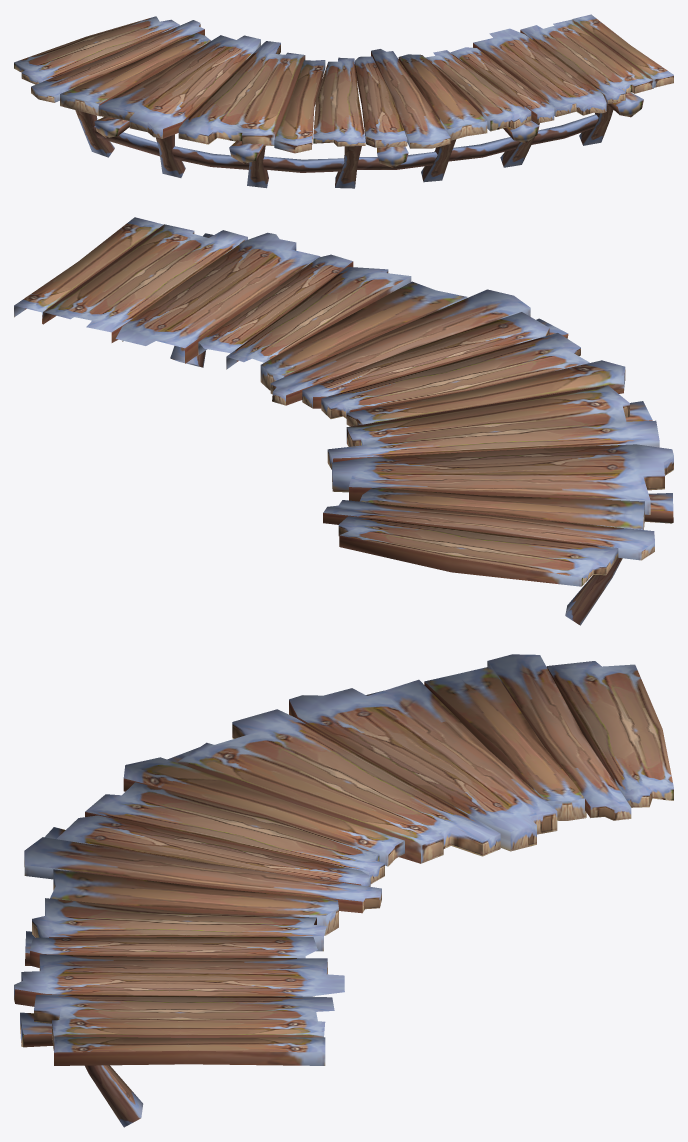
The model's file is Map_10_wooden15.FBX.
The picture shows the model from 3 angles, top to bottom: view 1: azimuth 30°, elevation 25°; view 2: azimuth 150°, elevation 25°; view 3: azimuth 270°, elevation 25°; orthographic projection. The views are drawn at different scales.
Visible parts, largest first — view 1: Map_10_wooden15; view 2: Map_10_wooden15; view 3: Map_10_wooden15.
Boxes of the visible parts, x1,y1,x2,y2 form: Map_10_wooden15: (14, 14, 673, 188); Map_10_wooden15: (14, 217, 673, 625); Map_10_wooden15: (14, 654, 673, 1127).
Bounding box in the file's own units: 33.36 × 4.83 × 23.44.
